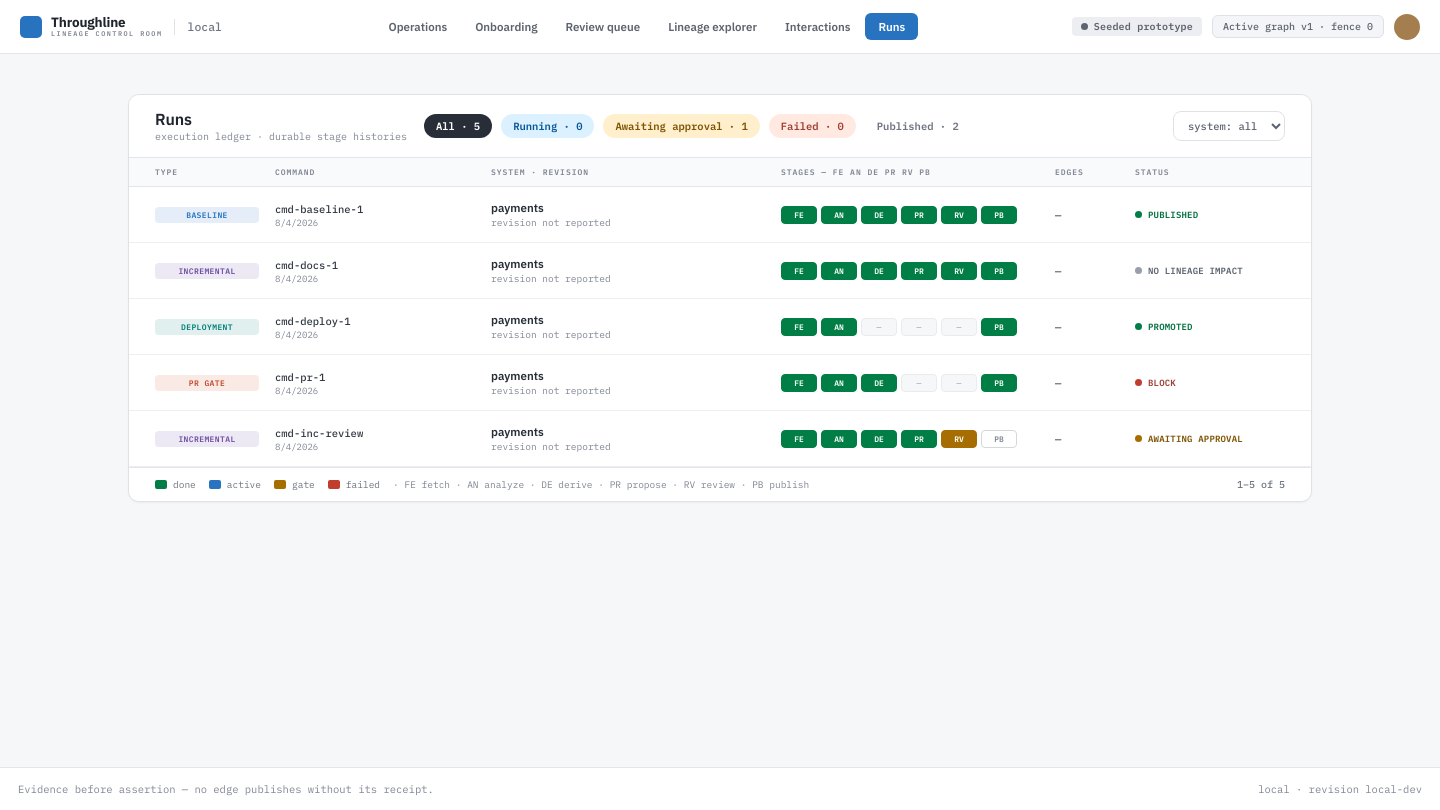
Test: status chips filter the ledger in place
Click the button "Awaiting approval · 1" at (682, 126), box [604, 114, 760, 138]
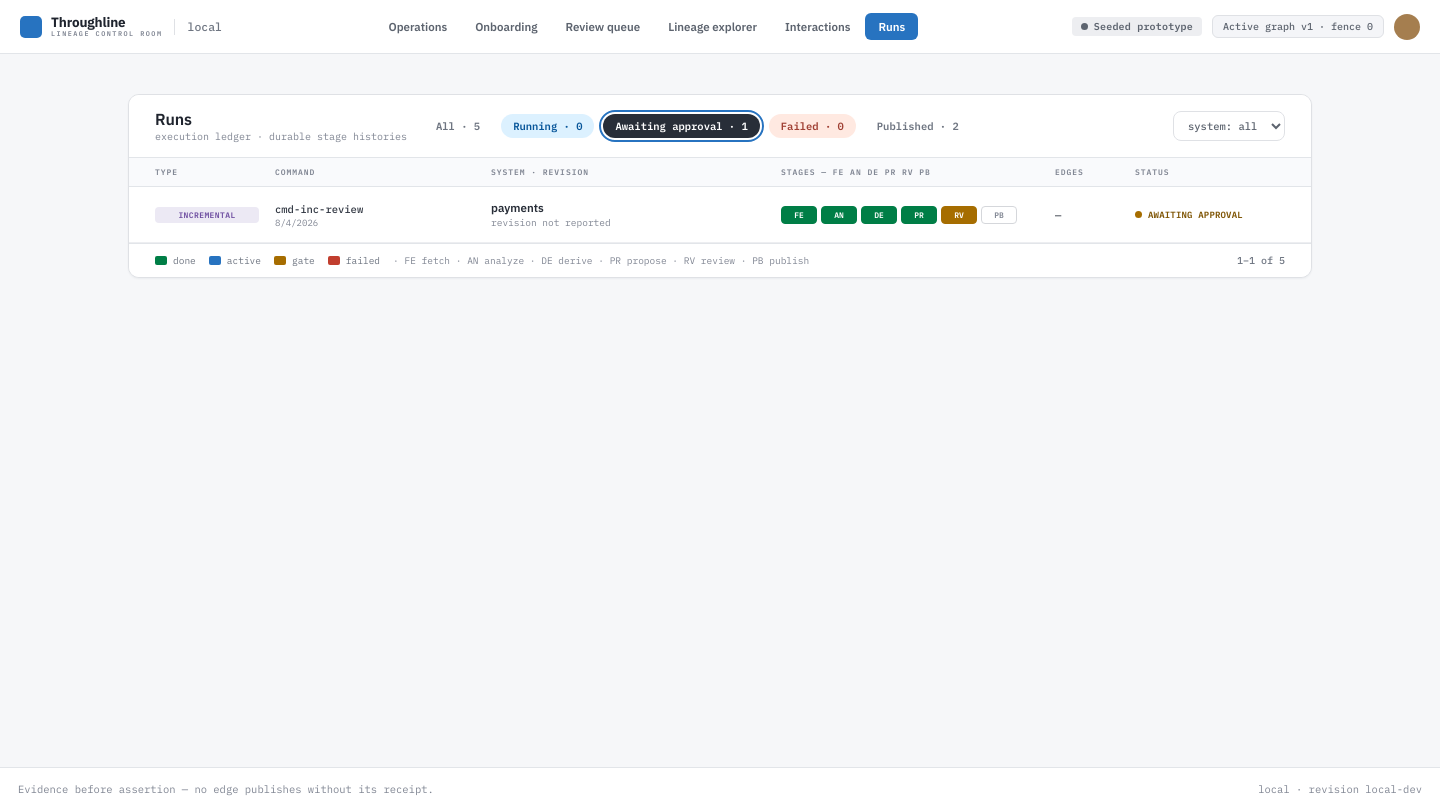
expect the list named "Stage pipeline for cmd-inc-review" is shown: met, box [781, 206, 1039, 224]
expect the text "1–1 of 5" is shown: met, box [1237, 254, 1285, 267]
Click the button "All · 5" at (458, 126), box [424, 114, 492, 138]
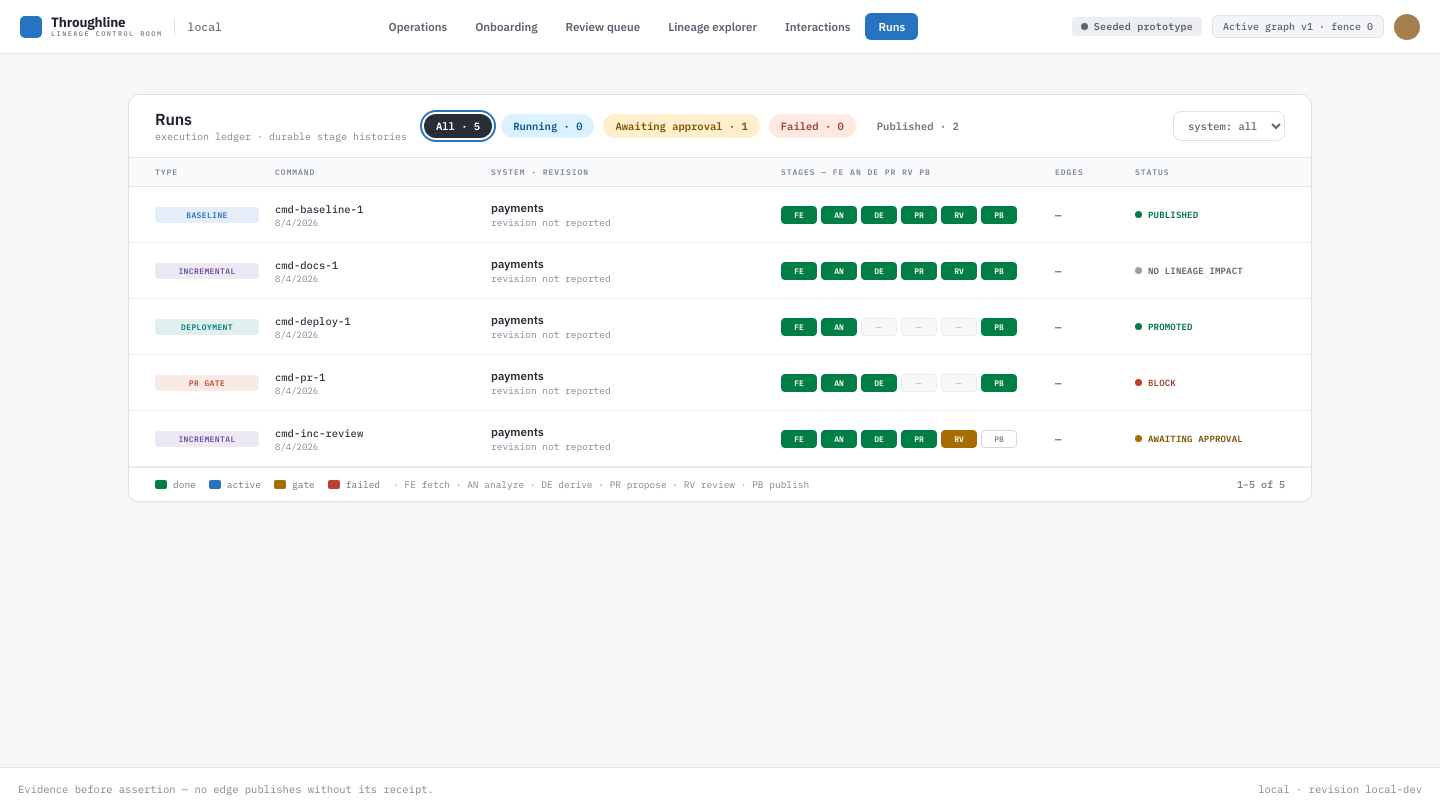
expect the list named "Stage pipeline for cmd-baseline-1" is shown: met, box [781, 206, 1039, 224]
